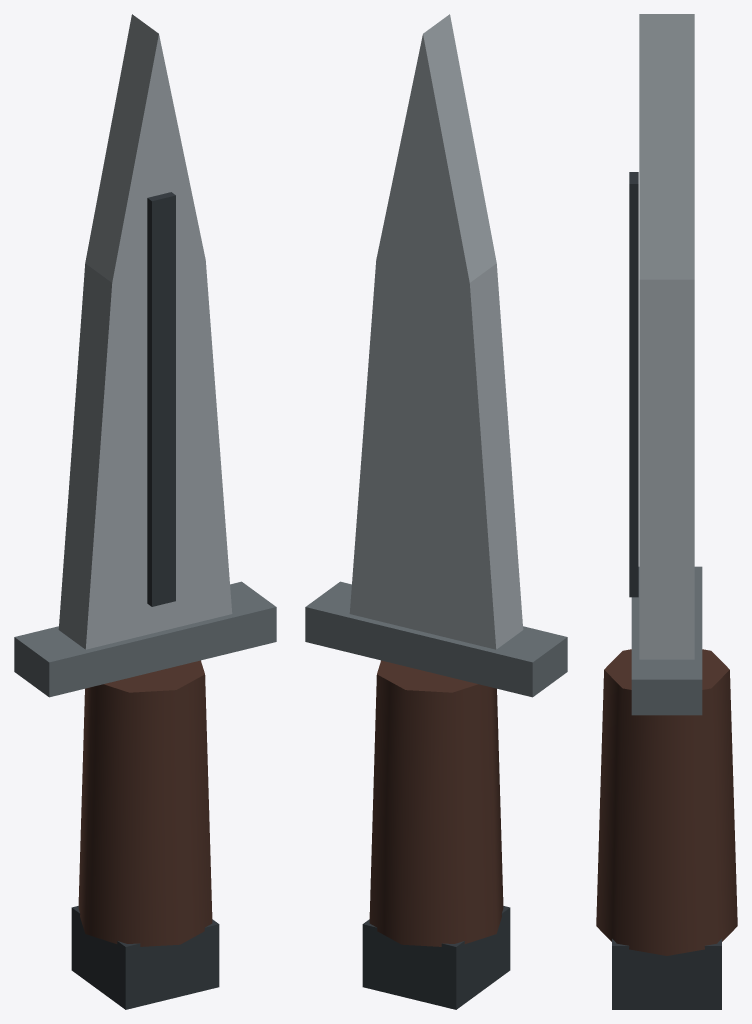
File: dagger.glb
The picture shows the model from 3 angles, left to right: view 1: azimuth 30°, elevation 25°; view 2: azimuth 150°, elevation 25°; view 3: azimuth 270°, elevation 25°; orthographic projection.
Parts seen in each view (by area): view 1: dagger-blade, dagger-grip, dagger-guard, dagger-fuller, dagger-pommel; view 2: dagger-blade, dagger-grip, dagger-guard, dagger-pommel; view 3: dagger-blade, dagger-grip, dagger-pommel, dagger-guard, dagger-fuller.
Part boxes in pixels (box(x1,y1,x2,y2)): dagger-blade: box(58, 14, 232, 649); dagger-grip: box(78, 660, 212, 946); dagger-guard: box(14, 581, 276, 697); dagger-fuller: box(147, 192, 175, 606); dagger-pommel: box(71, 906, 219, 1009); dagger-blade: box(349, 14, 523, 649); dagger-grip: box(369, 660, 503, 946); dagger-guard: box(305, 581, 567, 697); dagger-pommel: box(362, 906, 510, 1009); dagger-blade: box(639, 14, 694, 659); dagger-grip: box(596, 649, 737, 955); dagger-pommel: box(612, 939, 721, 1009); dagger-guard: box(631, 566, 702, 715); dagger-fuller: box(629, 172, 638, 597).
Size of the model in its own units: 0.17 by 0.6825 by 0.09.
